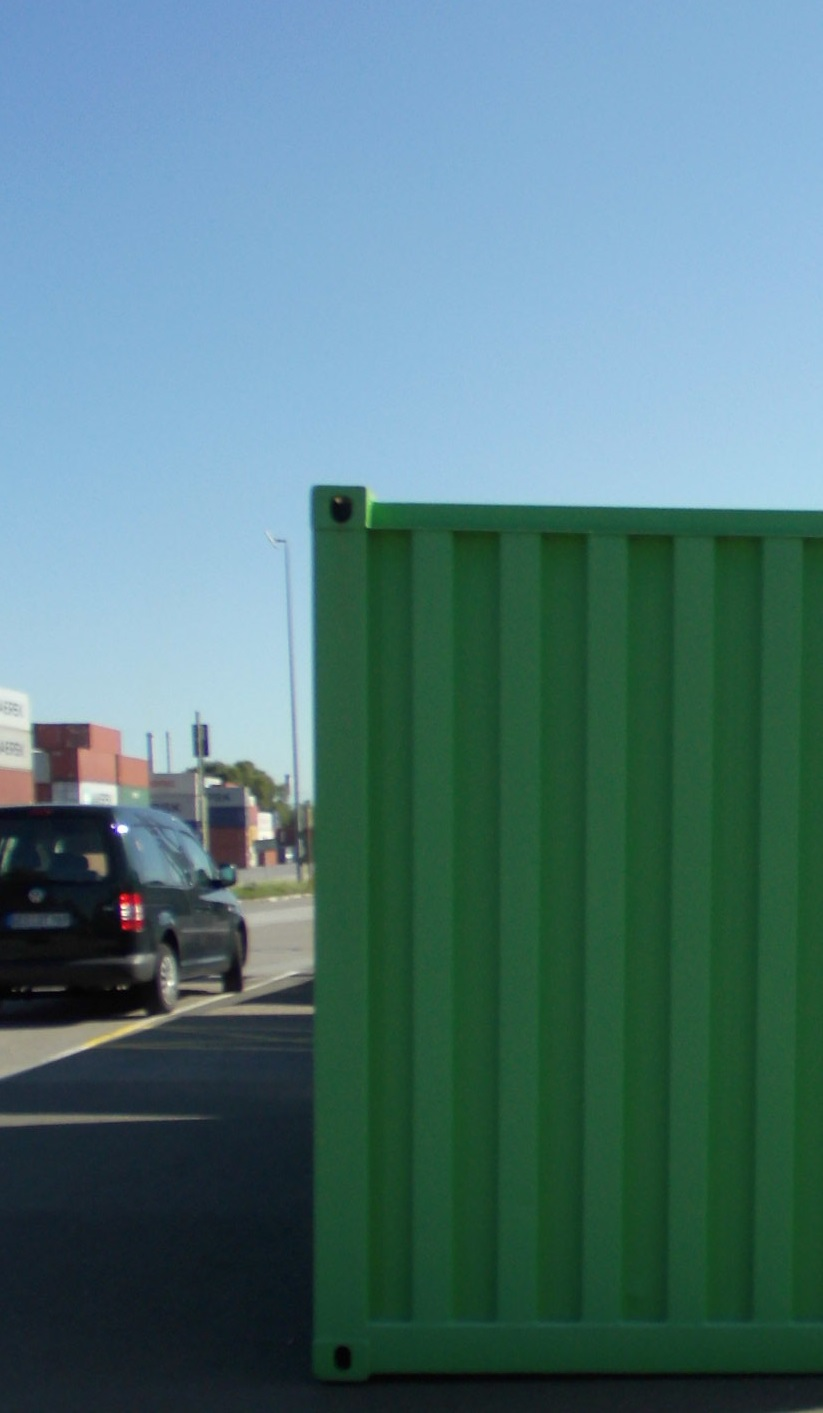container_no_door: (302, 481, 823, 1379)
